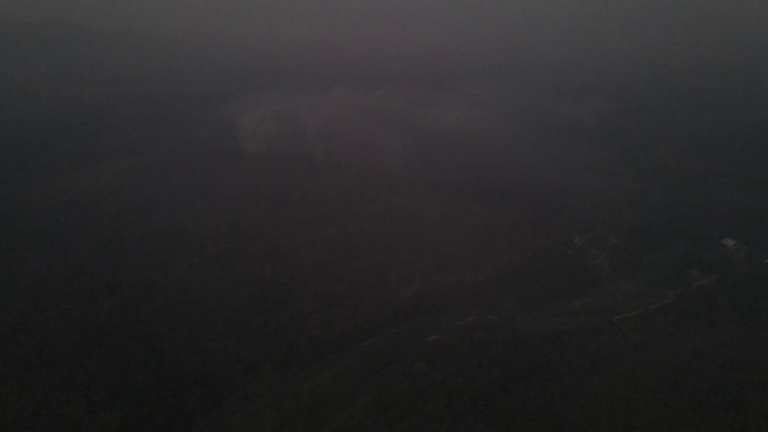smoke: (232, 88, 473, 169)
